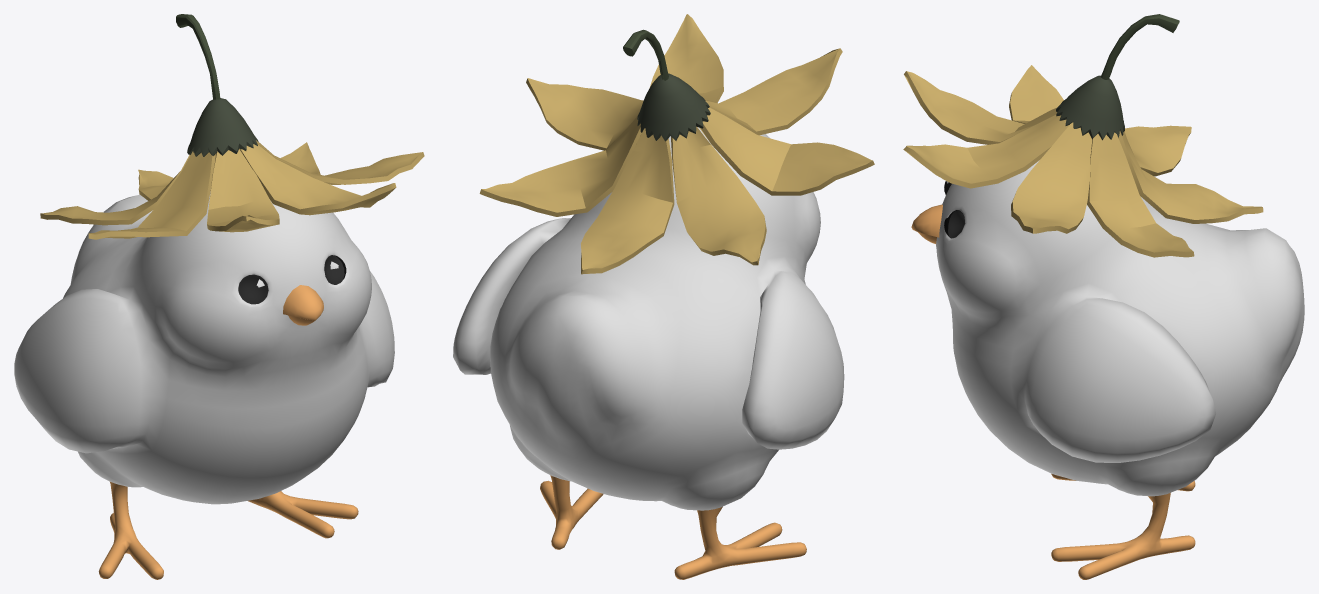
The model's file is Piou_PH_Clara_02.fbx.
3 renders of one model, left to right at view 1: azimuth 30°, elevation 25°; view 2: azimuth 150°, elevation 25°; view 3: azimuth 270°, elevation 25°, orthographic. The views are drawn at different scales.
Parts seen in each view (by area): view 1: Piou_Clara_01; view 2: Piou_Clara_01; view 3: Piou_Clara_01.
Part boxes in pixels (<box>): Piou_Clara_01: <box>14,14,424,579</box>; Piou_Clara_01: <box>453,14,874,579</box>; Piou_Clara_01: <box>903,14,1304,579</box>.
Bounding box in the file's own units: 3.56 × 5.11 × 3.69.
